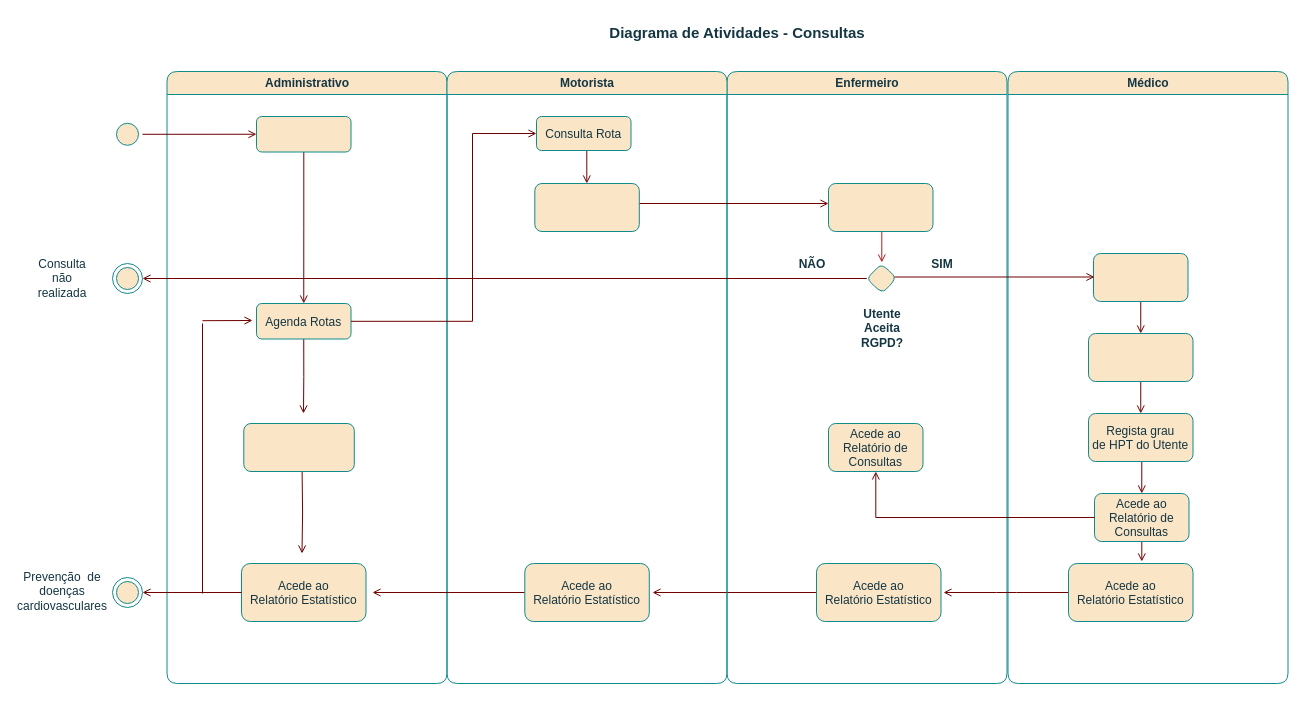
Image size: 1305x701. Some labels were removed from this diagram. The shapes that lost their labels are listed below. From the top down, each one's centre as x and y in pixels, then its label:
the point at 303,134: Regista Equipas
the point at 586,207: Transporta Equipa ao Concelho
the point at 880,207: Regista Utente
the point at 1140,277: Dá Consulta
the point at 1140,357: Realiza Exames
the point at 298,447: Acede Relatório de Colaboradores
